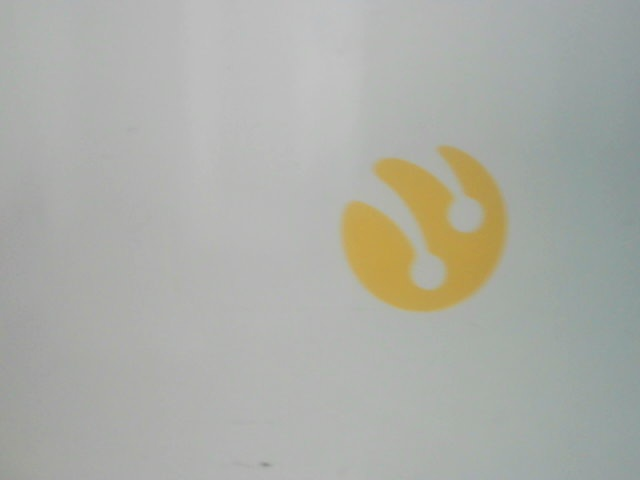AV_H3600Yellow: (326, 140, 515, 315)
